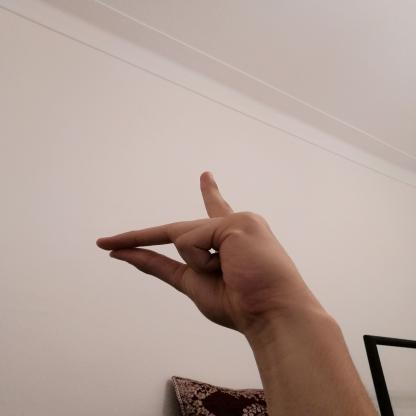TAA: (82, 159, 330, 343)
